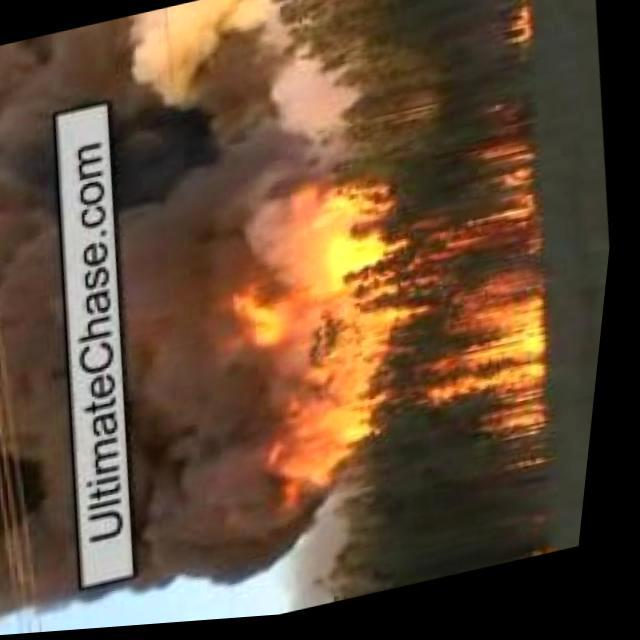fire: (238, 137, 582, 516), (496, 0, 540, 60), (546, 554, 568, 566)
